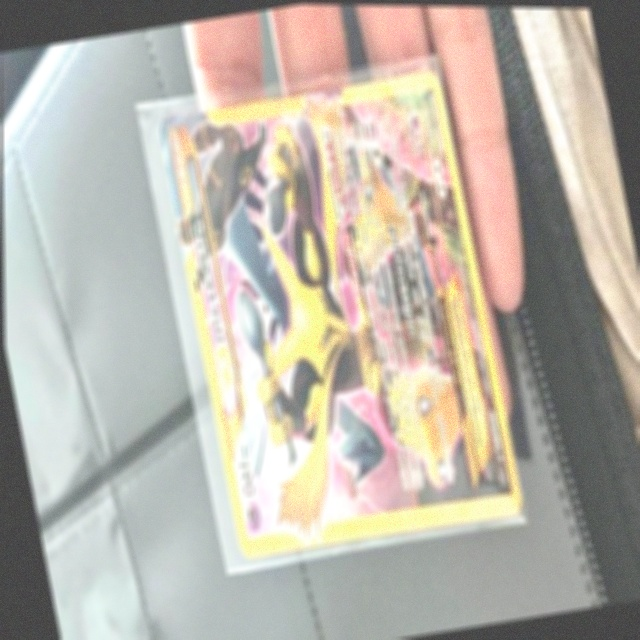card: (160, 66, 520, 557)
